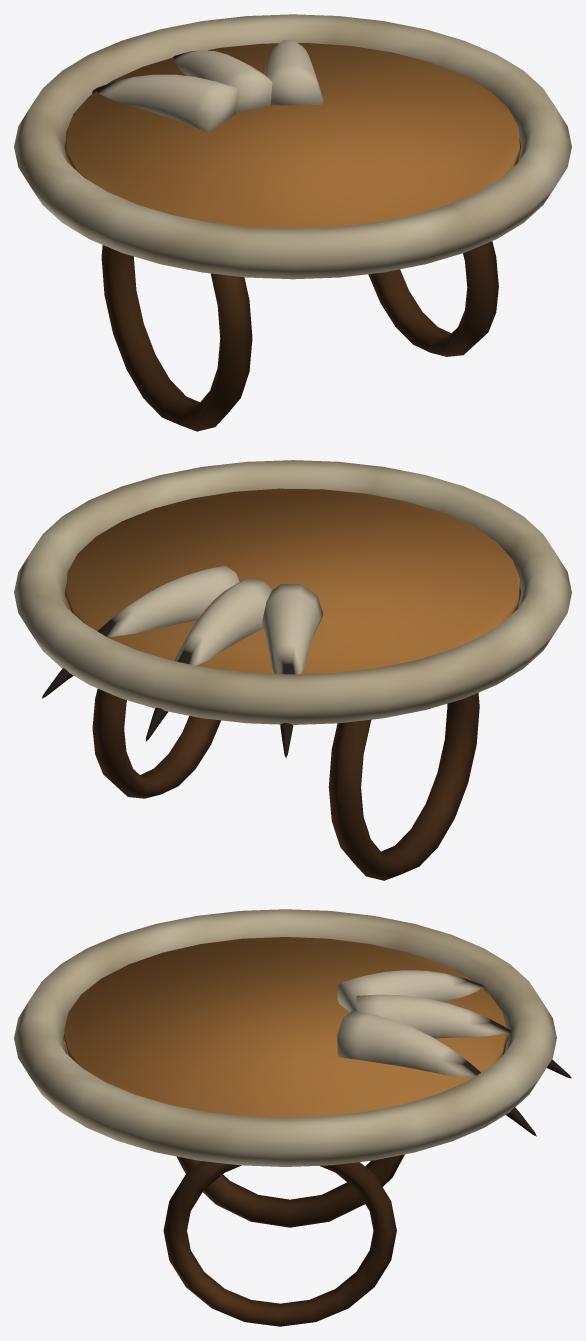
File: claw_buckler.glb
3 renders of one model, top to bottom at view 1: azimuth 30°, elevation 25°; view 2: azimuth 150°, elevation 25°; view 3: azimuth 270°, elevation 25°, orthographic. The views are drawn at different scales.
Visible parts, largest first — view 1: claw_buckler__LeftForeArm; view 2: claw_buckler__LeftForeArm; view 3: claw_buckler__LeftForeArm.
Part boxes in pixels (bbox=[...]): claw_buckler__LeftForeArm: bbox=[14, 14, 571, 431]; claw_buckler__LeftForeArm: bbox=[14, 460, 571, 880]; claw_buckler__LeftForeArm: bbox=[14, 909, 571, 1326].
Bounding box in the file's own units: 0.1276 × 0.0735 × 0.1311.
